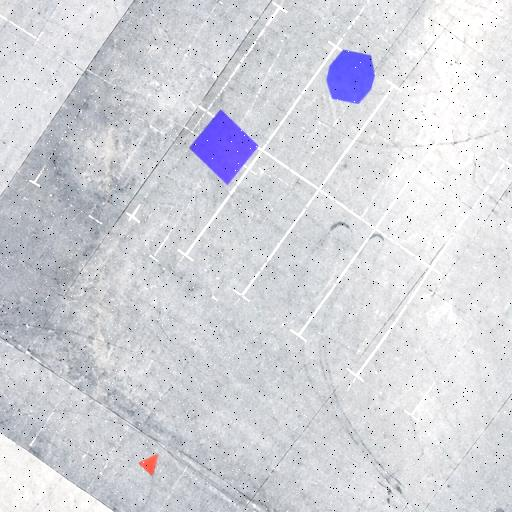BLUE_SQUARE: (189, 108, 259, 186)
